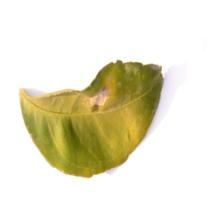black spot: (73, 57, 181, 119)
